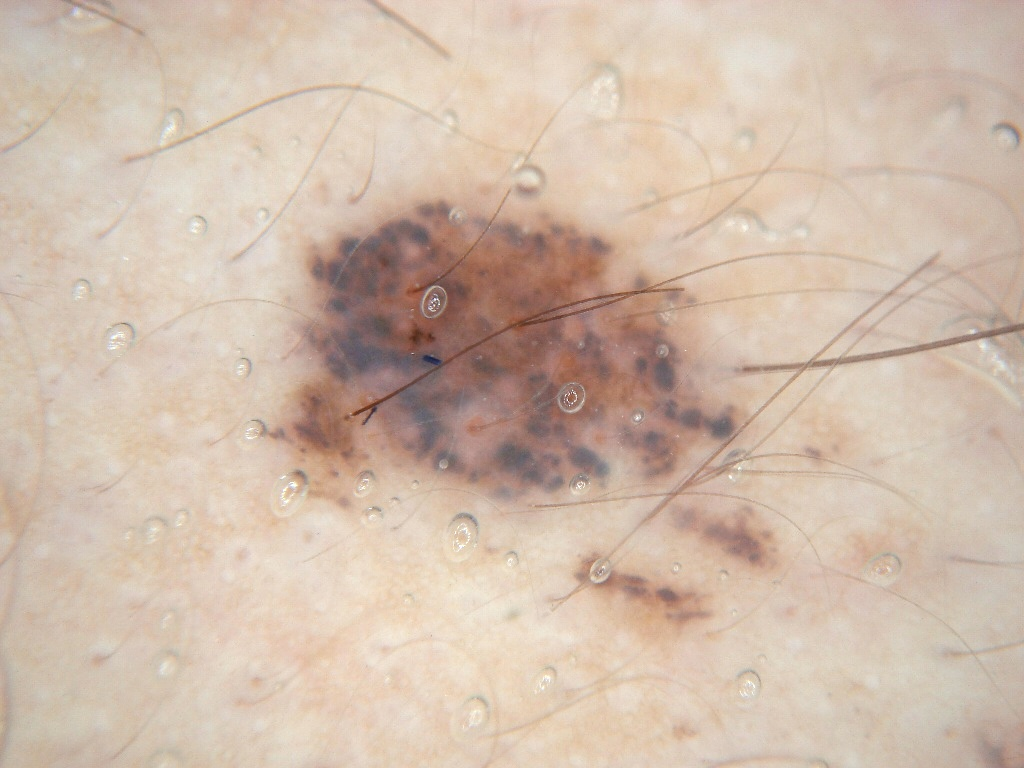Detected Lesion: (251, 193, 844, 639)
